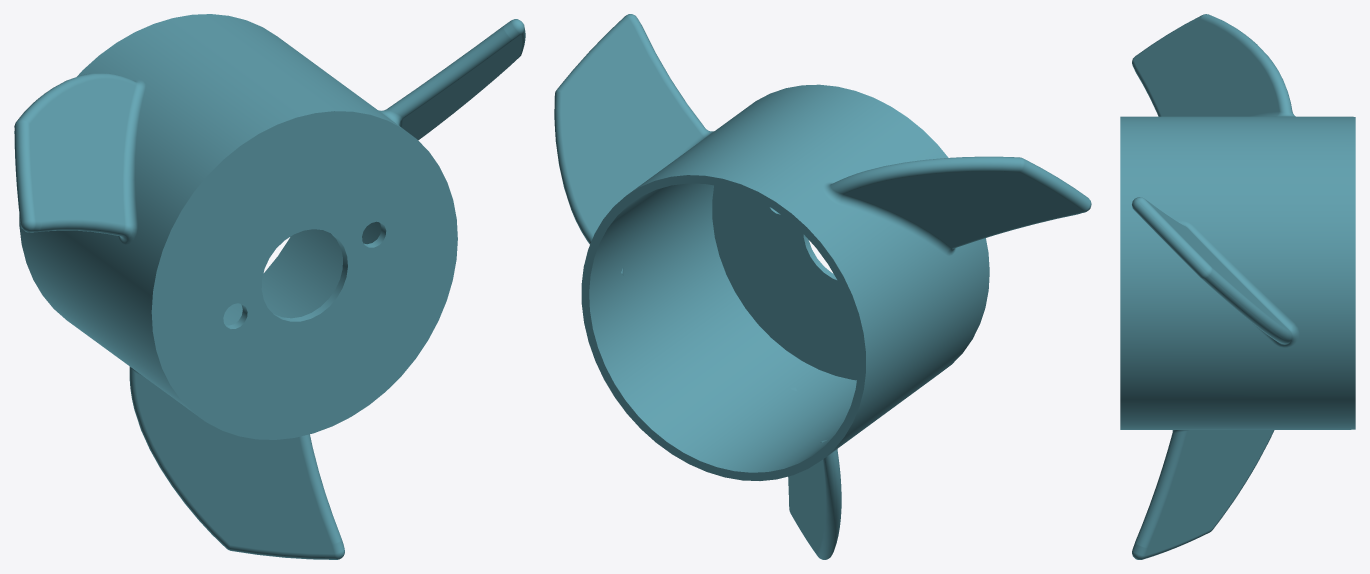
File: t200_ccw_prop_livery.dae
3 views of the same model, side by side, from view 1: azimuth 30°, elevation 25°; view 2: azimuth 150°, elevation 25°; view 3: azimuth 270°, elevation 25° (orthographic). The views are drawn at different scales.
Parts seen in each view (by area): view 1: T200-CCW; view 2: T200-CCW; view 3: T200-CCW.
Boxes of the visible parts, x1,y1,x2,y2 form: T200-CCW: [14, 14, 525, 559]; T200-CCW: [554, 14, 1091, 559]; T200-CCW: [1120, 14, 1355, 559].
Bounding box in the file's own units: 0.0701 × 0.03 × 0.0622.
